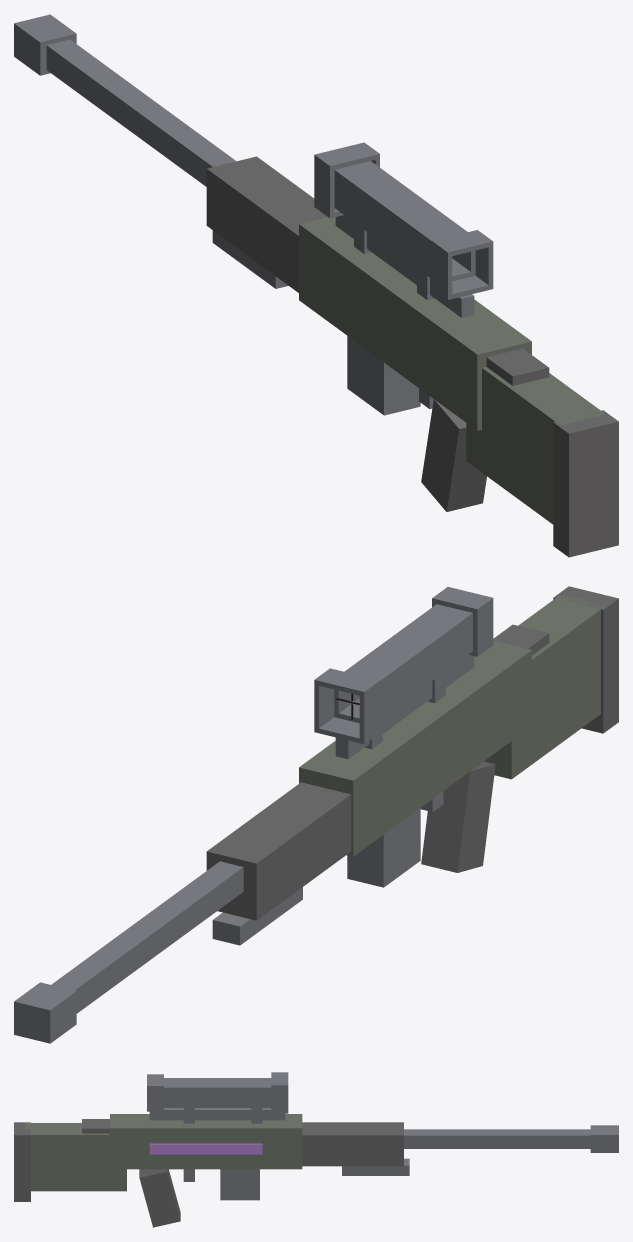
Rendered from dmr.glb.
3 views of the same model, one above another, from view 1: azimuth 30°, elevation 25°; view 2: azimuth 150°, elevation 25°; view 3: azimuth 270°, elevation 25° (orthographic). The views are drawn at different scales.
Parts seen in each view (by area): view 1: weapon.dmr; view 2: weapon.dmr; view 3: weapon.dmr.
Boxes of the visible parts, left/top/right/bottom form: weapon.dmr: left=14, top=14, right=618, bottom=557; weapon.dmr: left=14, top=586, right=618, bottom=1043; weapon.dmr: left=14, top=1072, right=618, bottom=1227.
Bounding box in the file's own units: 0.063 × 0.281 × 1.07.
